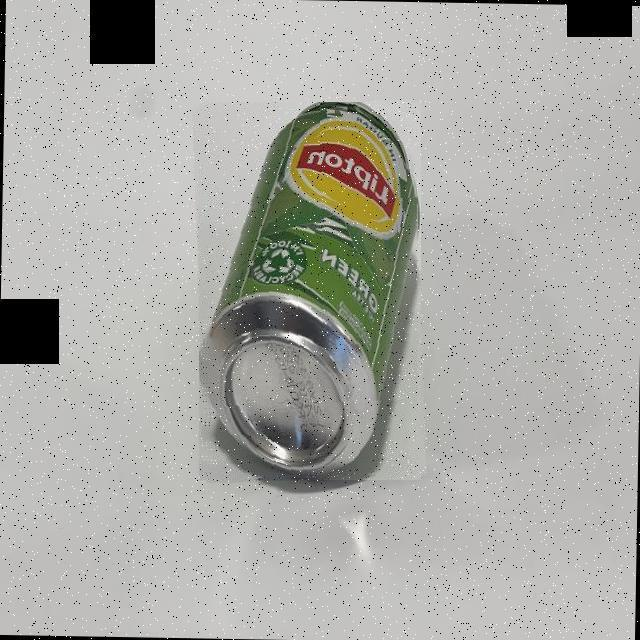recyclable: (205, 102, 417, 478)
